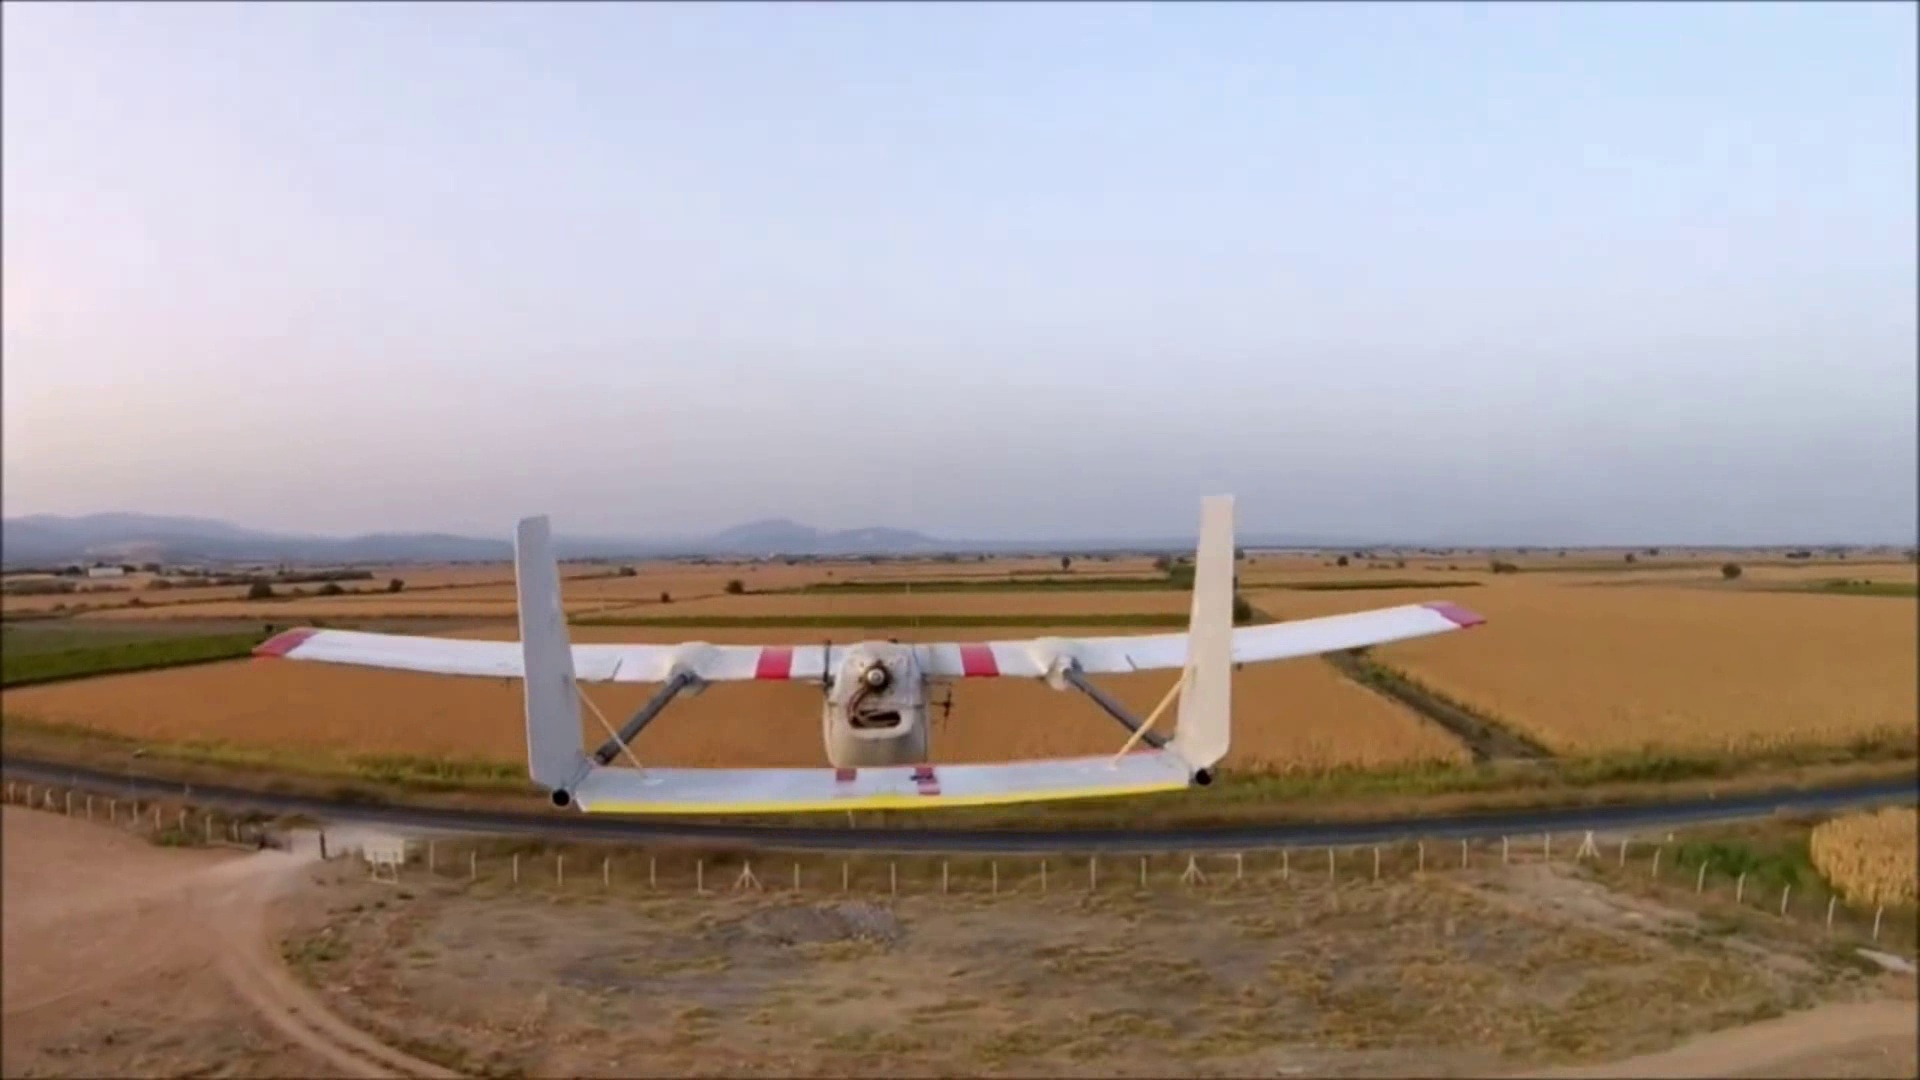airplane: (247, 491, 1489, 810)
